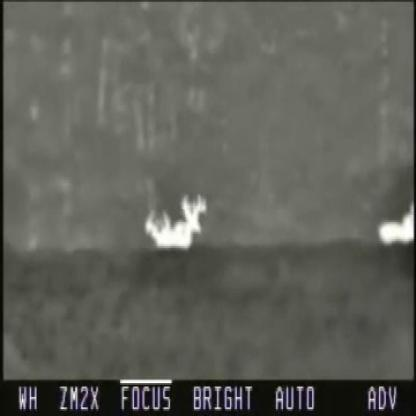rehkitze: (145, 194, 206, 250), (376, 204, 415, 245)
